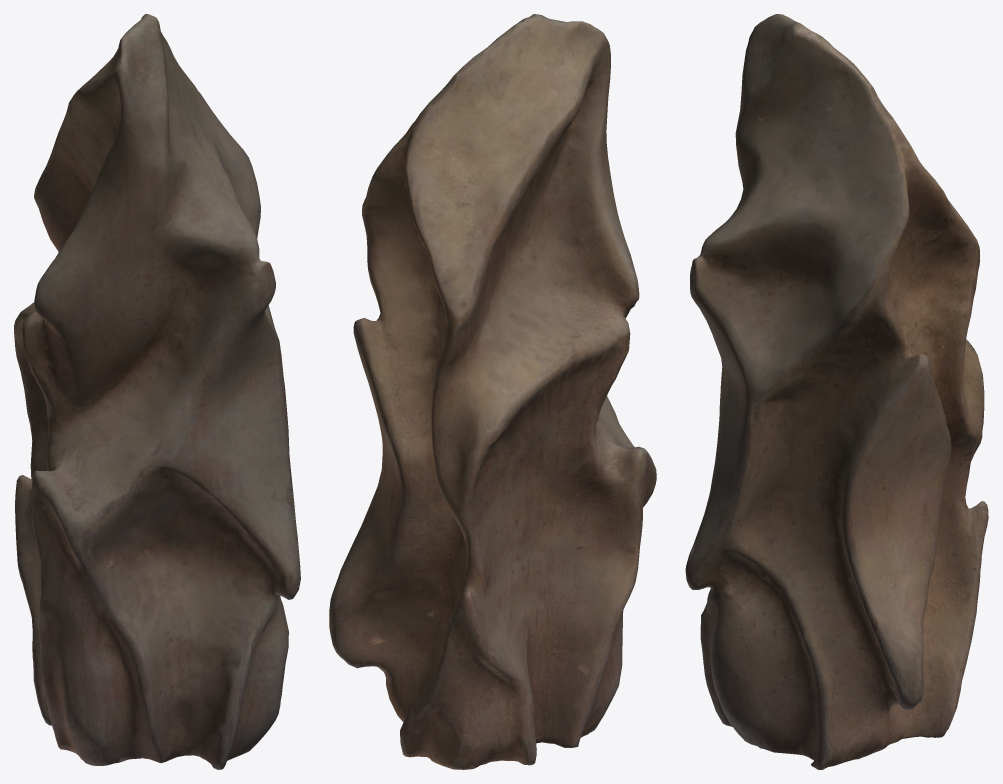
The model's file is found001_woodensculpture_compress.gltf.
3 views of the same model, side by side, from view 1: azimuth 30°, elevation 25°; view 2: azimuth 150°, elevation 25°; view 3: azimuth 270°, elevation 25° (orthographic). The views are drawn at different scales.
Visible parts, largest first — view 1: Model; view 2: Model; view 3: Model.
Part boxes in pixels (x1,y1,x2,y2): Model: [14, 14, 300, 769]; Model: [329, 14, 656, 769]; Model: [685, 14, 988, 769].
Size of the model in its own units: 1.21 by 3.11 by 1.24.
1 material, 1 textured.
